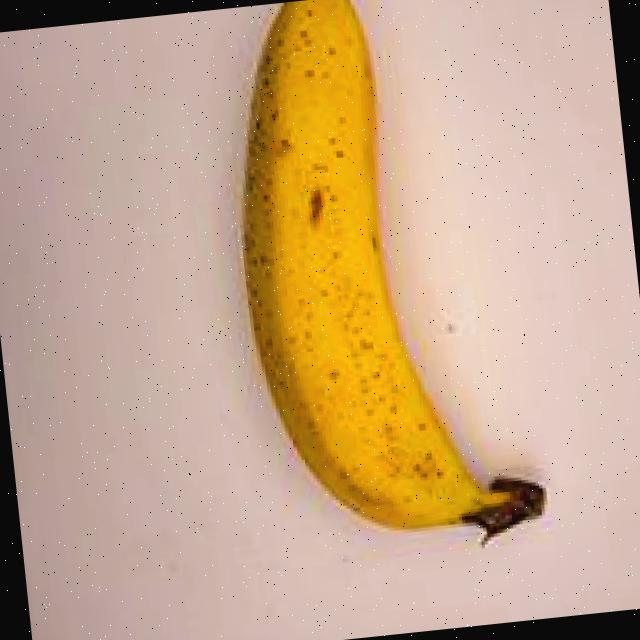Overripe: (167, 0, 588, 578)
